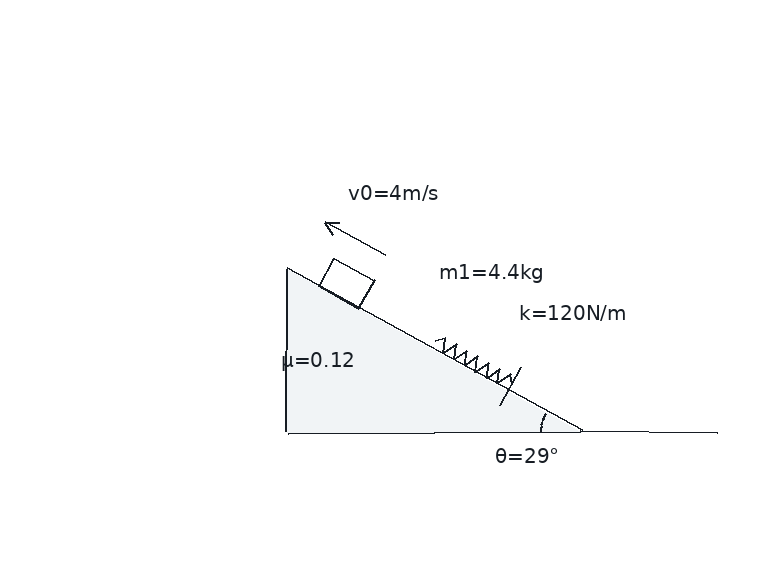block: (317, 256, 375, 310)
ramp: (285, 267, 583, 434)
spring: (433, 336, 514, 385)
